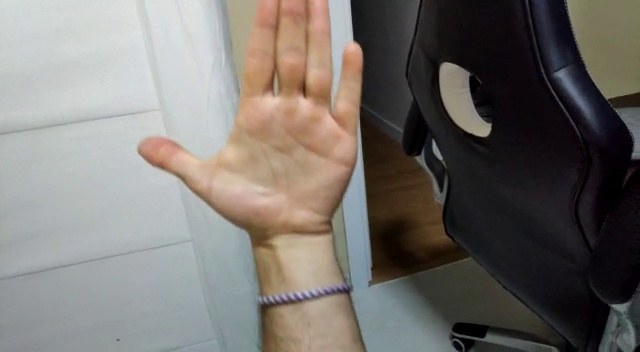Palm: (134, 1, 359, 260)
